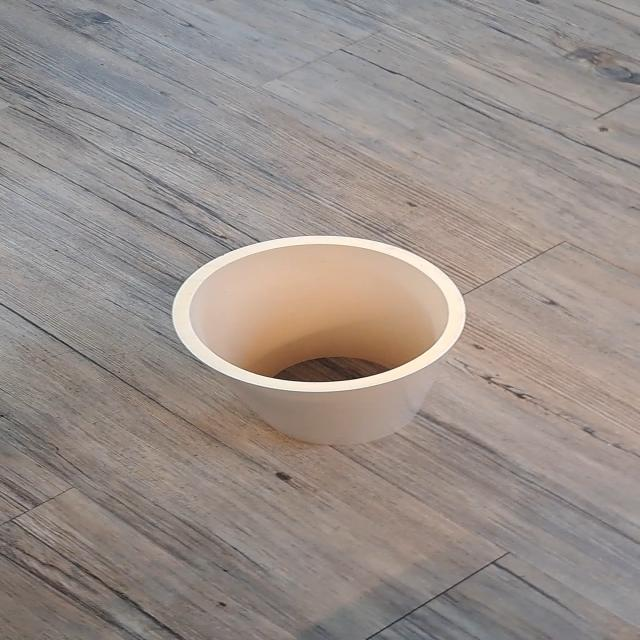CORAL: (149, 227, 513, 456)
